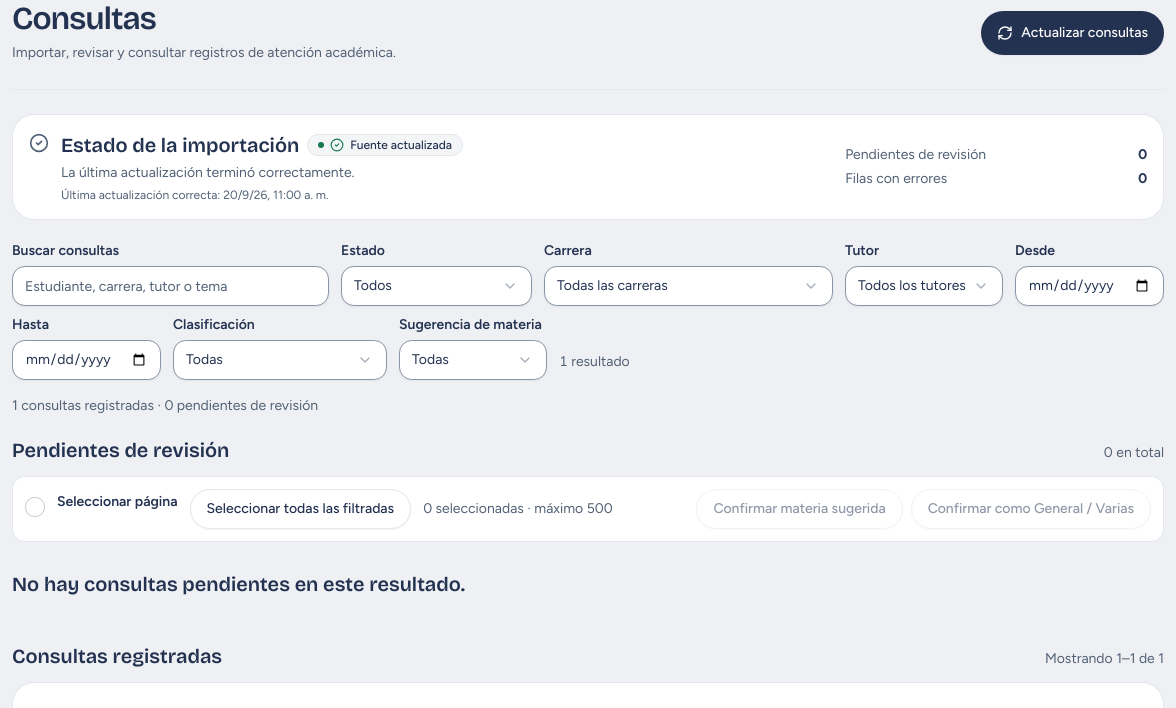
Test: ConsultationsScreen › keeps canonical consultations visible when the source import is unavailable
Click the button "Actualizar consultas".
click(1073, 33)  # box [981,11,1164,55]
(page scrolled)
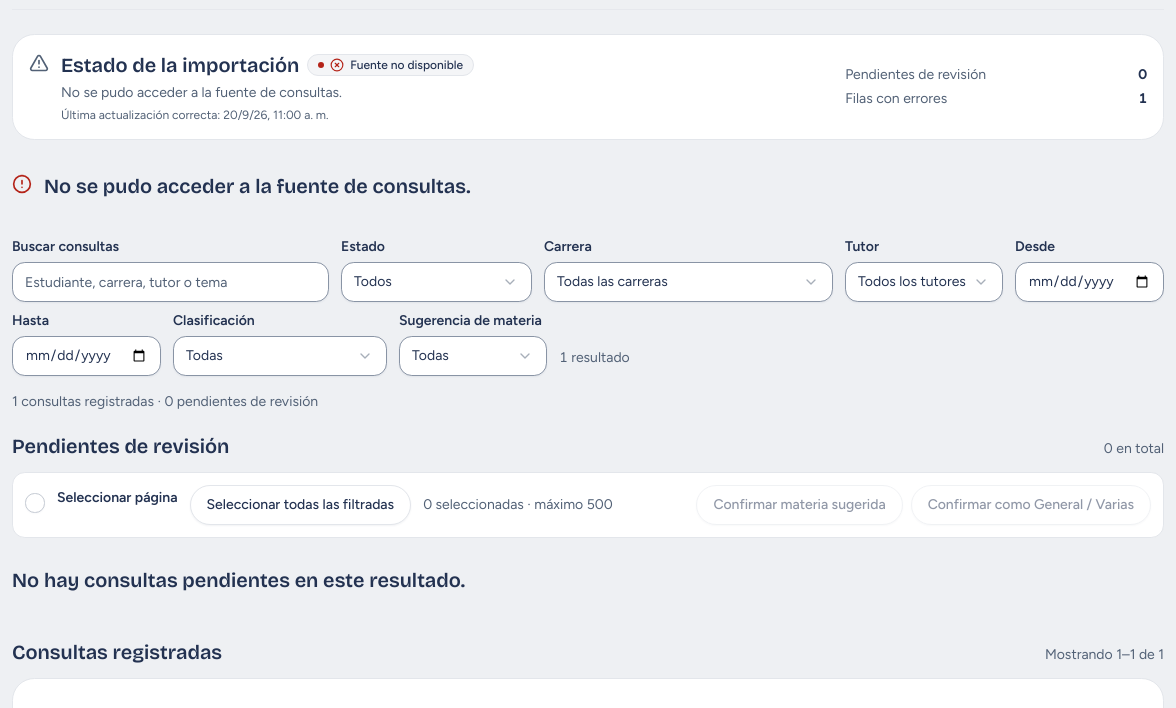
Expected: the message "No se pudo acceder a la fuente de consultas." is shown, [12,174,470,198]
